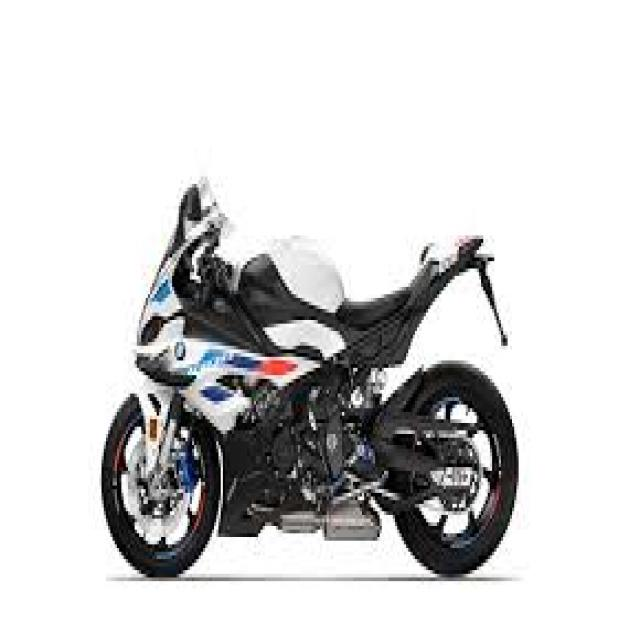Bike: (98, 176, 520, 571)
